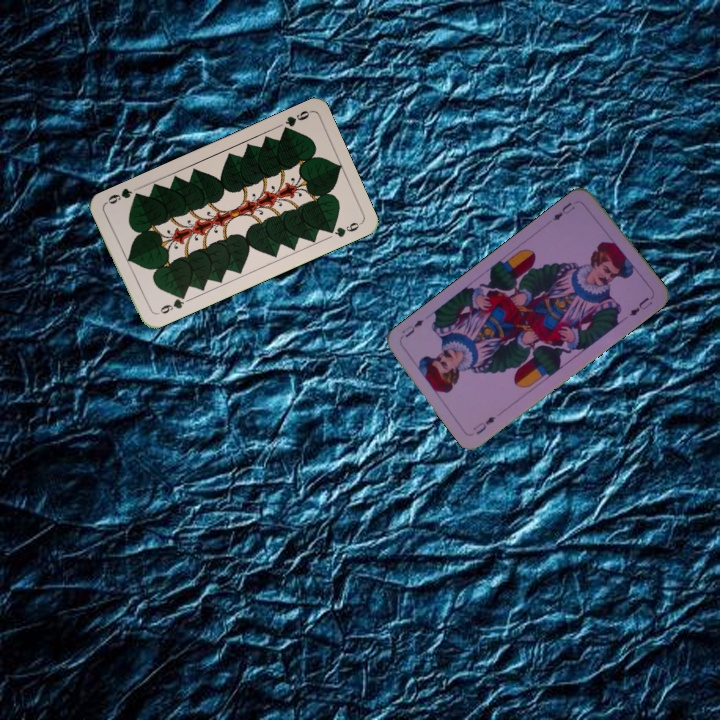EU: (548, 198, 578, 223), (469, 412, 499, 437)
G9: (278, 106, 313, 136), (152, 290, 188, 317)
